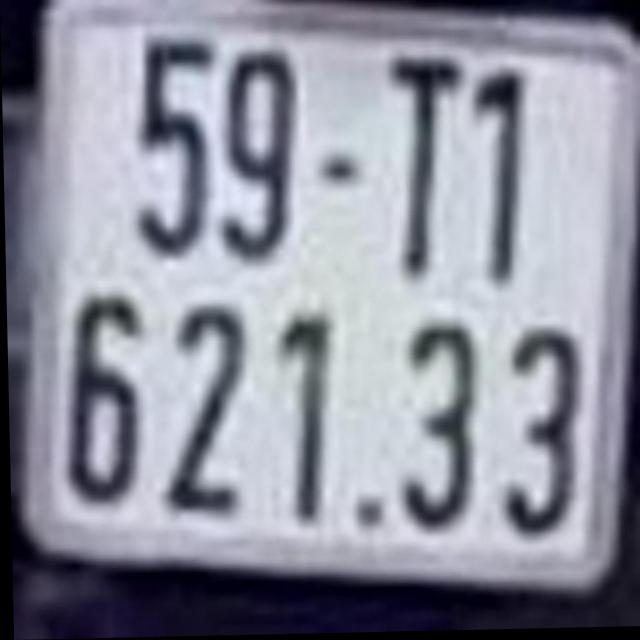1: (266, 296, 333, 528), (472, 46, 522, 283)
2: (165, 300, 236, 512)
3: (402, 307, 471, 529), (508, 323, 578, 541)
5: (129, 27, 212, 250)
6: (66, 292, 143, 499)
9: (220, 47, 295, 267)
T: (387, 47, 469, 276)
